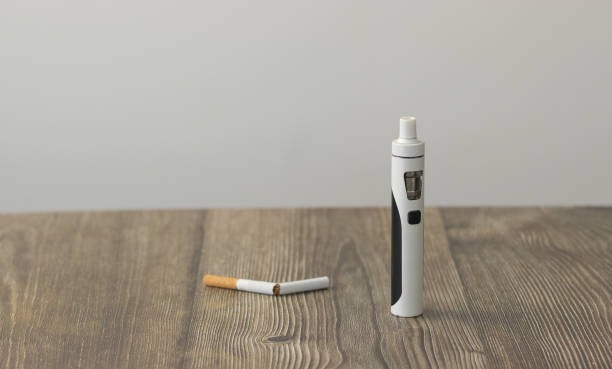cigarette: (389, 115, 426, 318), (203, 271, 281, 297), (276, 275, 331, 297)
